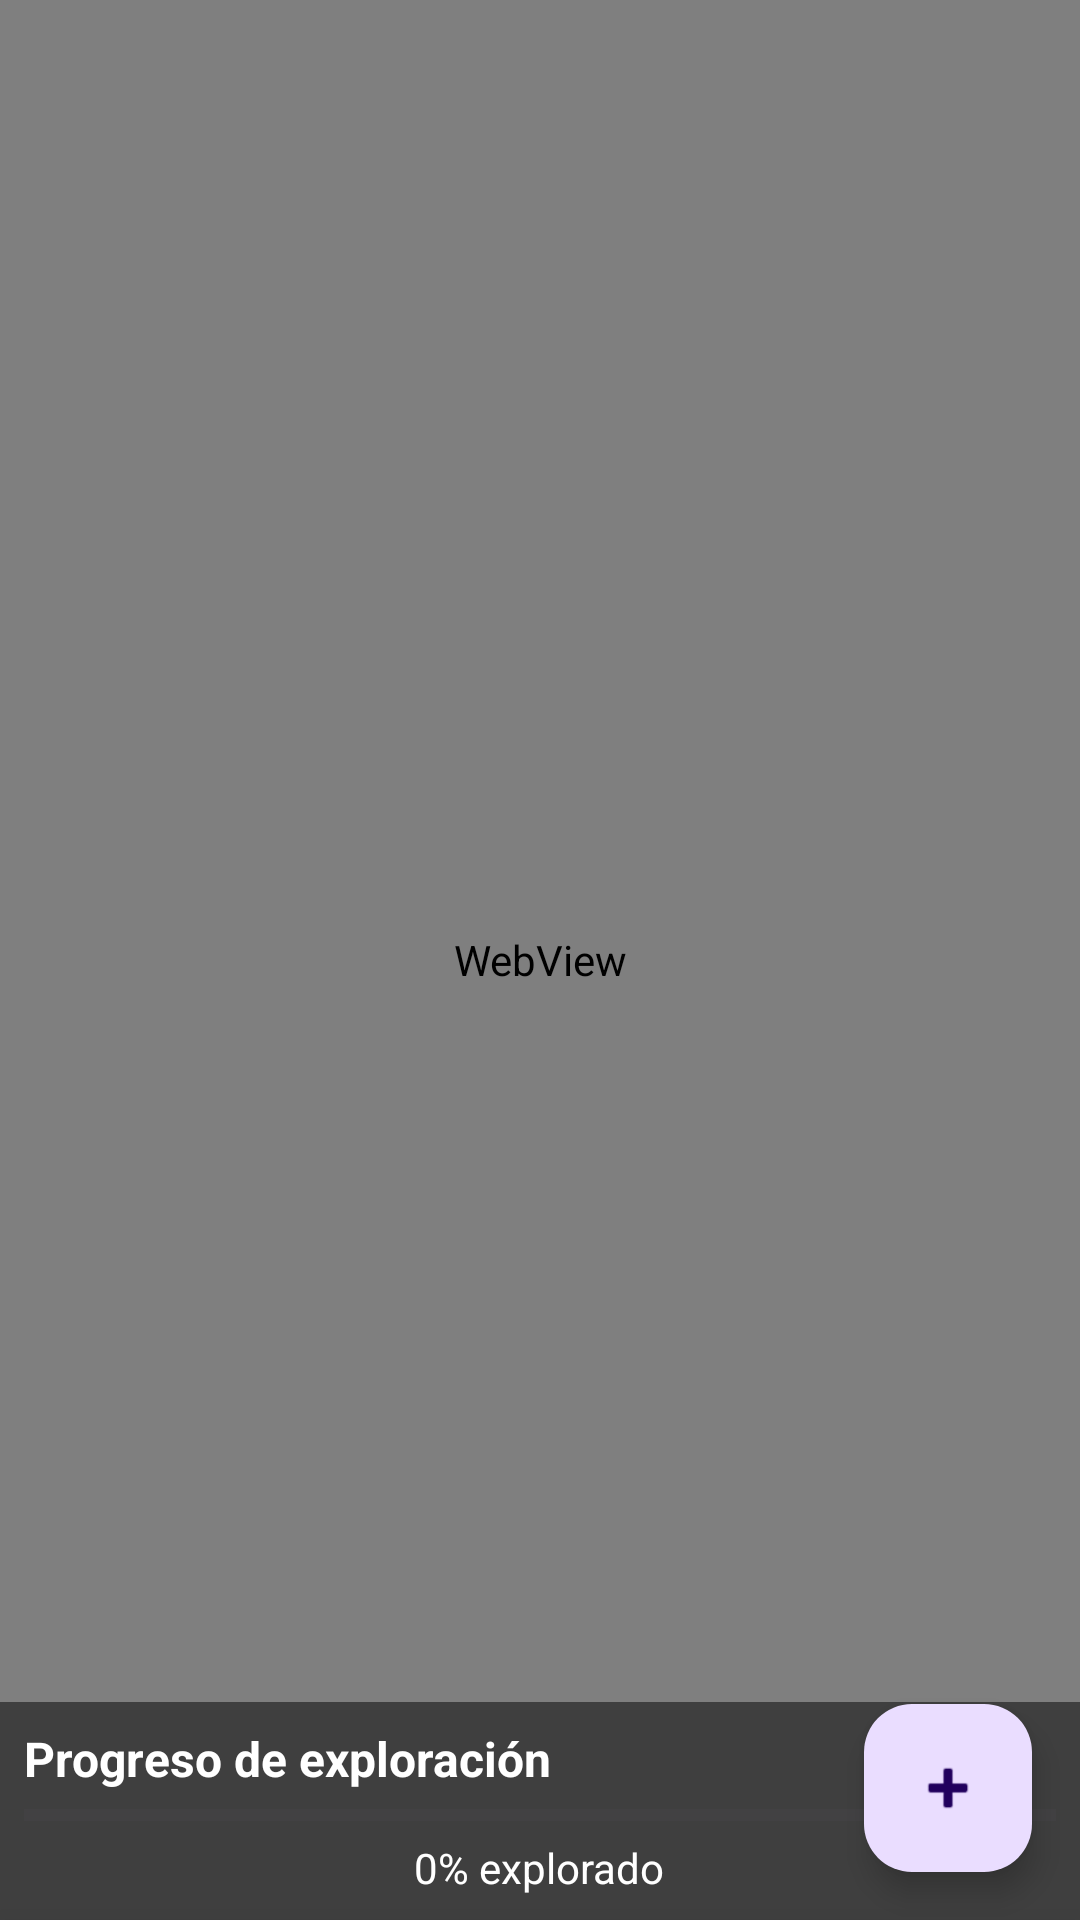

Where icons sit on this 1080w x 1920h app screen, as bbox=(x1, y1, x2, y2):
Añadir punto de interés: bbox=(864, 1704, 1032, 1872)
